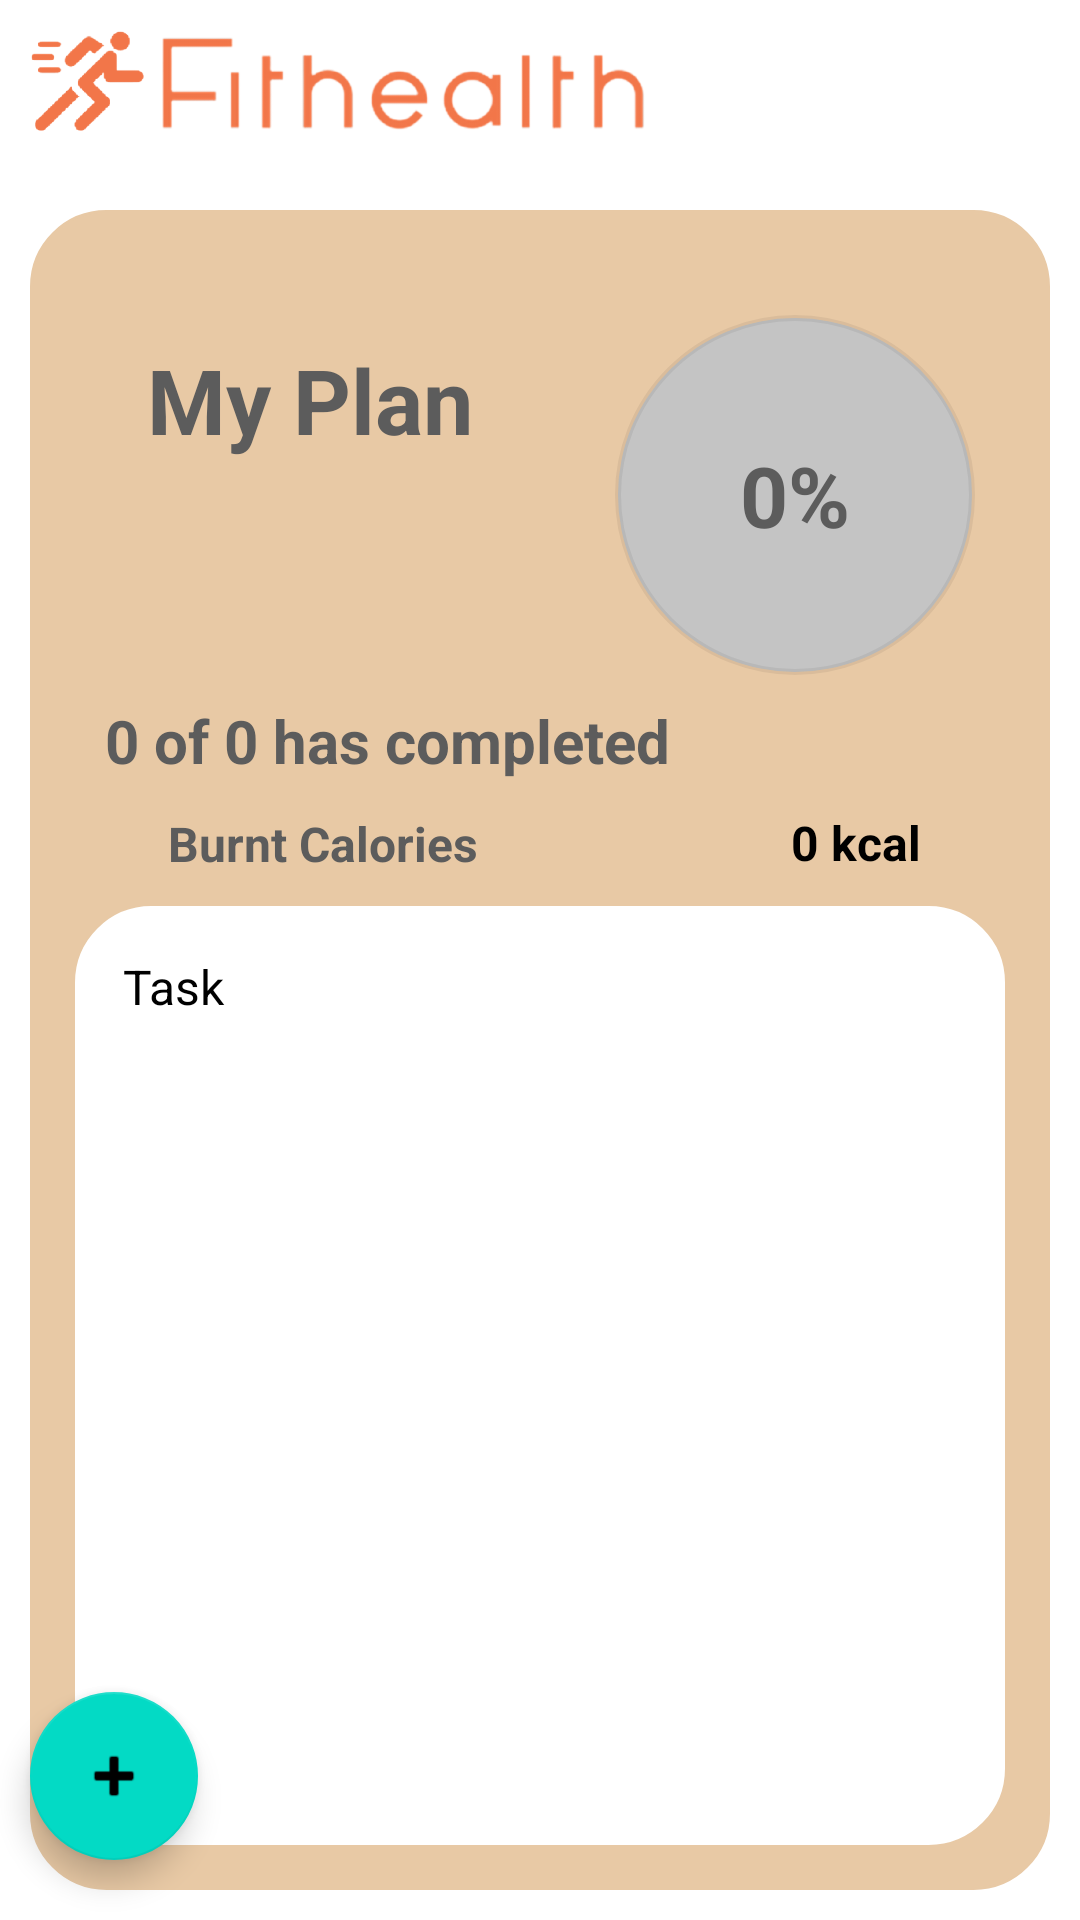

Icon click points for this 1080x1920 phone screenshot, format [x,y]:
add: [114,1776]
